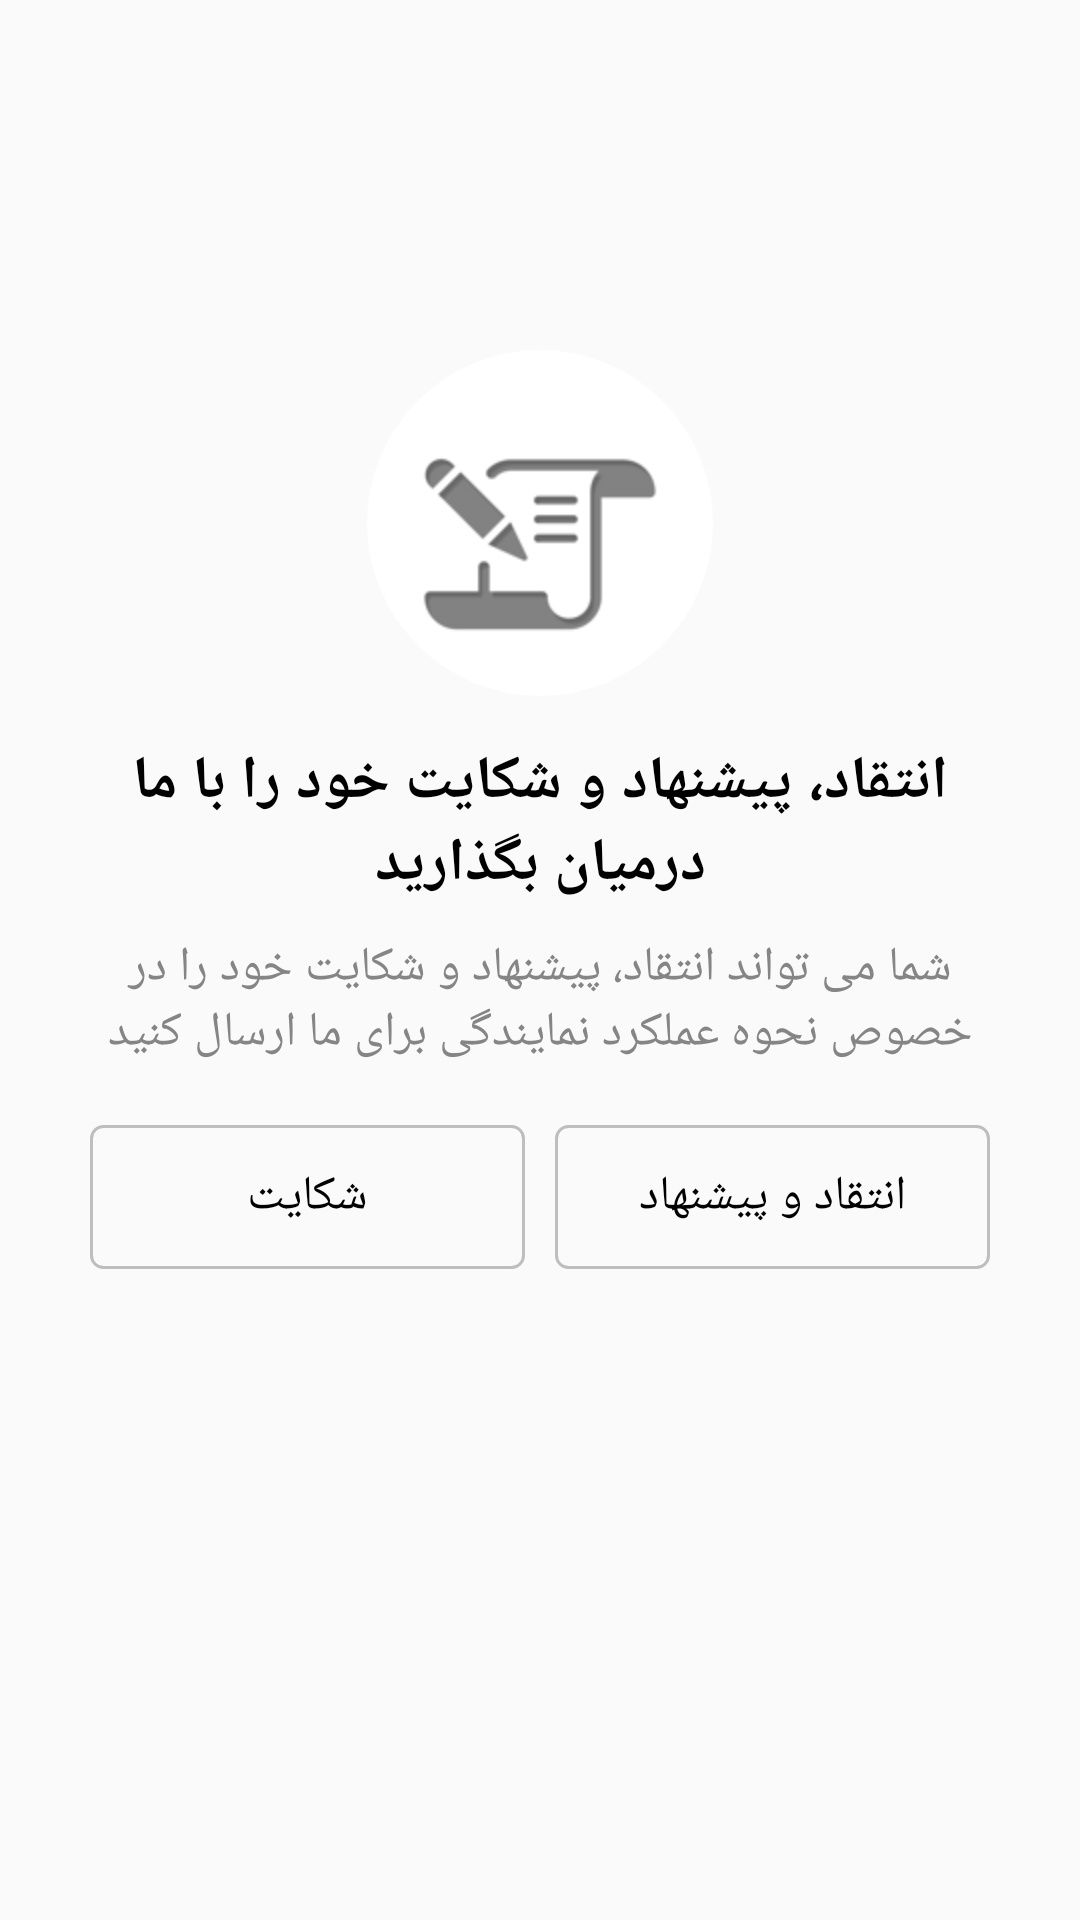

Icons on this 1080*1920 Android screen, each with its box as (x1,y1,x2,y2):
suggestion: (424,458,656,630)
